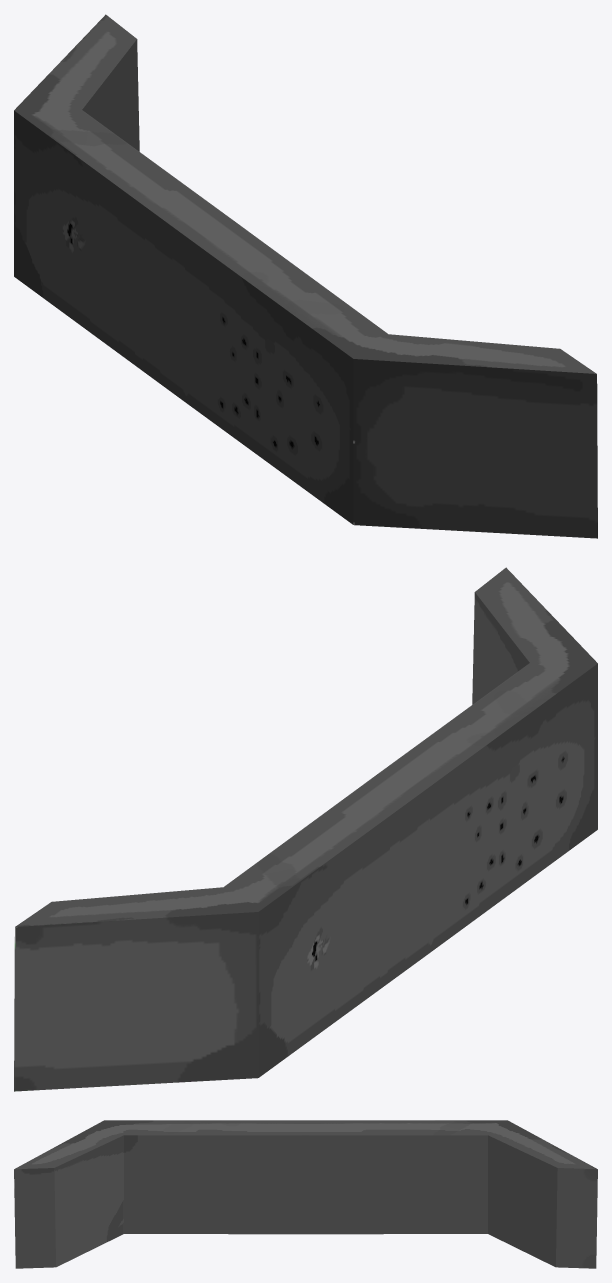
The model's file is cover_painted.fbx.
3 views of the same model, one above another, from view 1: azimuth 30°, elevation 25°; view 2: azimuth 150°, elevation 25°; view 3: azimuth 270°, elevation 25° (orthographic). The views are drawn at different scales.
Parts seen in each view (by area): view 1: Cube; view 2: Cube; view 3: Cube.
Boxes of the visible parts, left/top/right/bottom form: Cube: left=14, top=14, right=597, bottom=538; Cube: left=14, top=567, right=597, bottom=1091; Cube: left=14, top=1120, right=597, bottom=1268.
Size of the model in its own units: 68.42 by 64.13 by 342.
